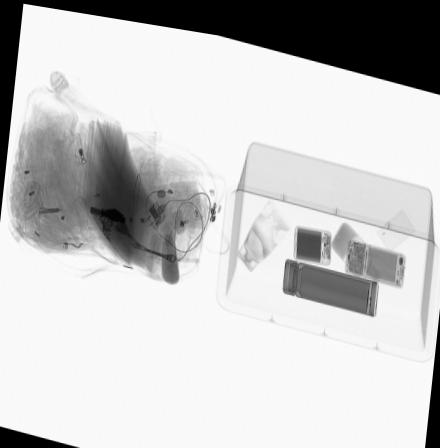Powerbank: (295, 217, 331, 252)
